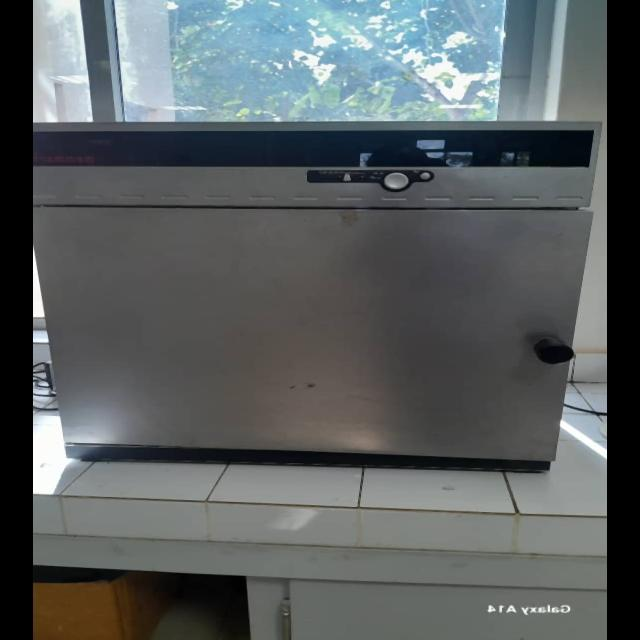Incubator: (33, 109, 601, 477)
